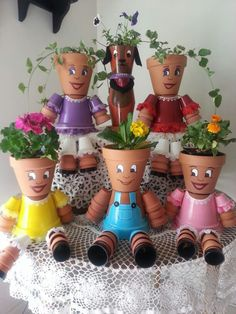flowerpot: (100, 145, 150, 191), (179, 149, 226, 195), (10, 154, 59, 196), (54, 55, 99, 95), (149, 55, 186, 97)
